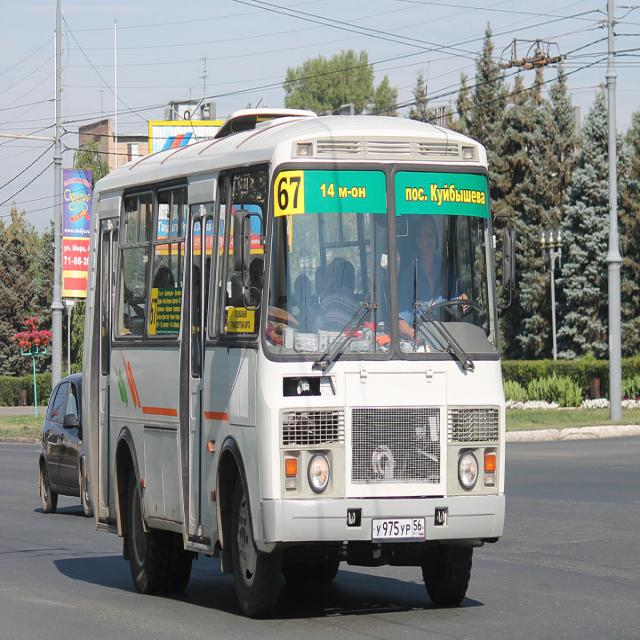number-of-bus: (275, 171, 305, 214), (150, 297, 158, 327)
